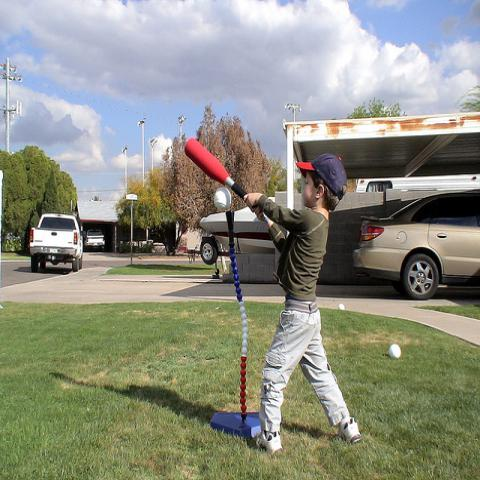car: (350, 187, 479, 304), (84, 230, 105, 251)
truck: (29, 212, 86, 274), (84, 229, 105, 252)
